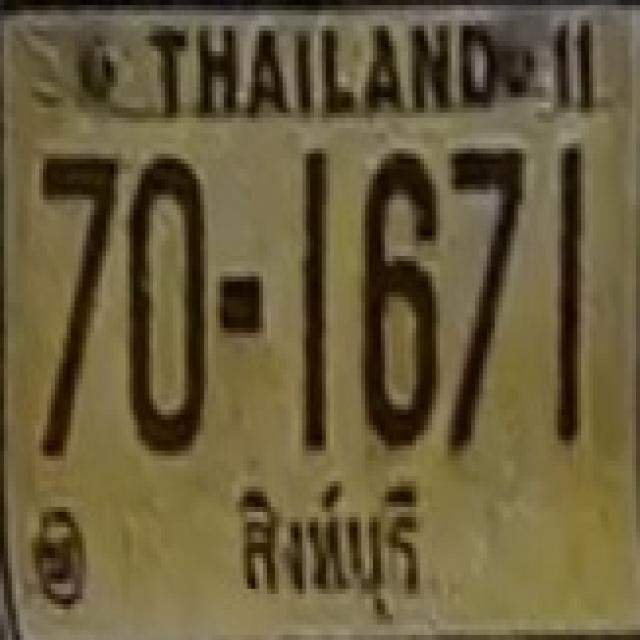0: (126, 154, 204, 450)
1: (298, 146, 326, 402), (554, 141, 581, 381)
6: (357, 146, 436, 443)
7: (446, 164, 520, 445), (448, 143, 522, 420), (39, 148, 118, 354), (448, 144, 522, 348), (39, 146, 118, 335)
SBR: (232, 472, 432, 632)
